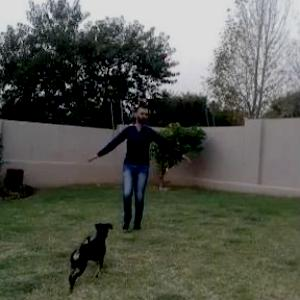land: (82, 100, 210, 256)
